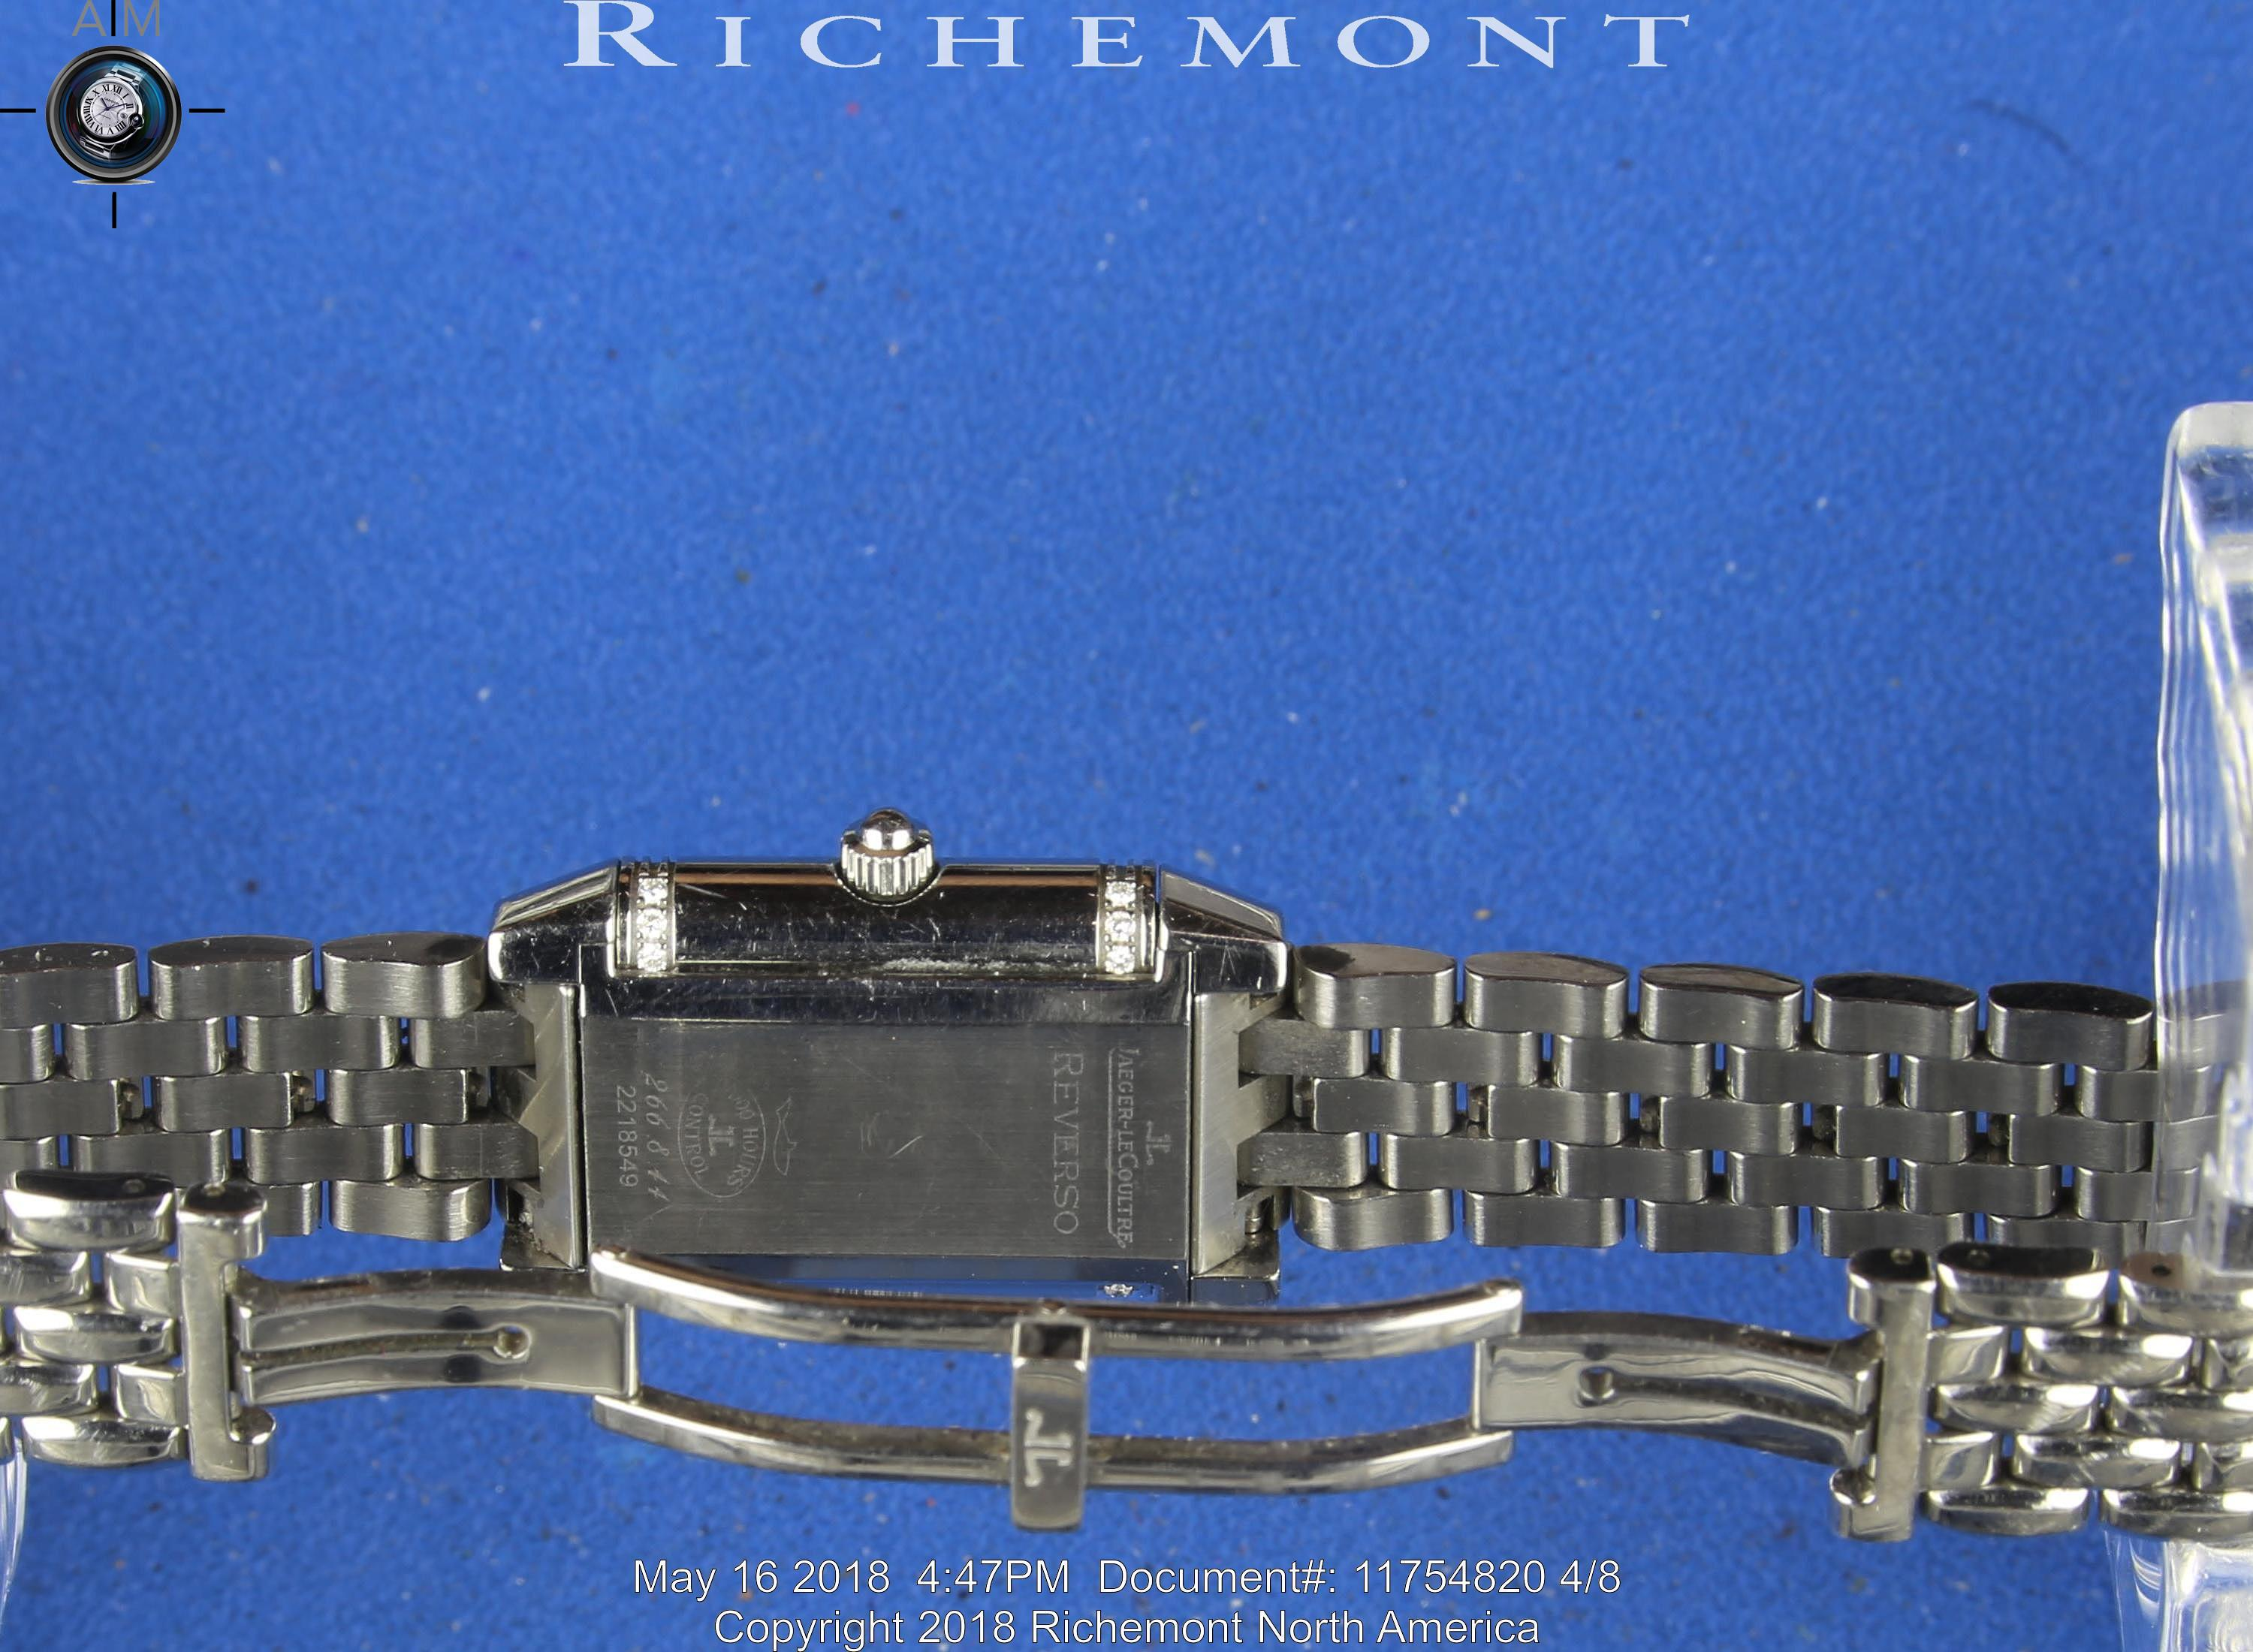Watch Back Case: (481, 806, 1315, 1285)
